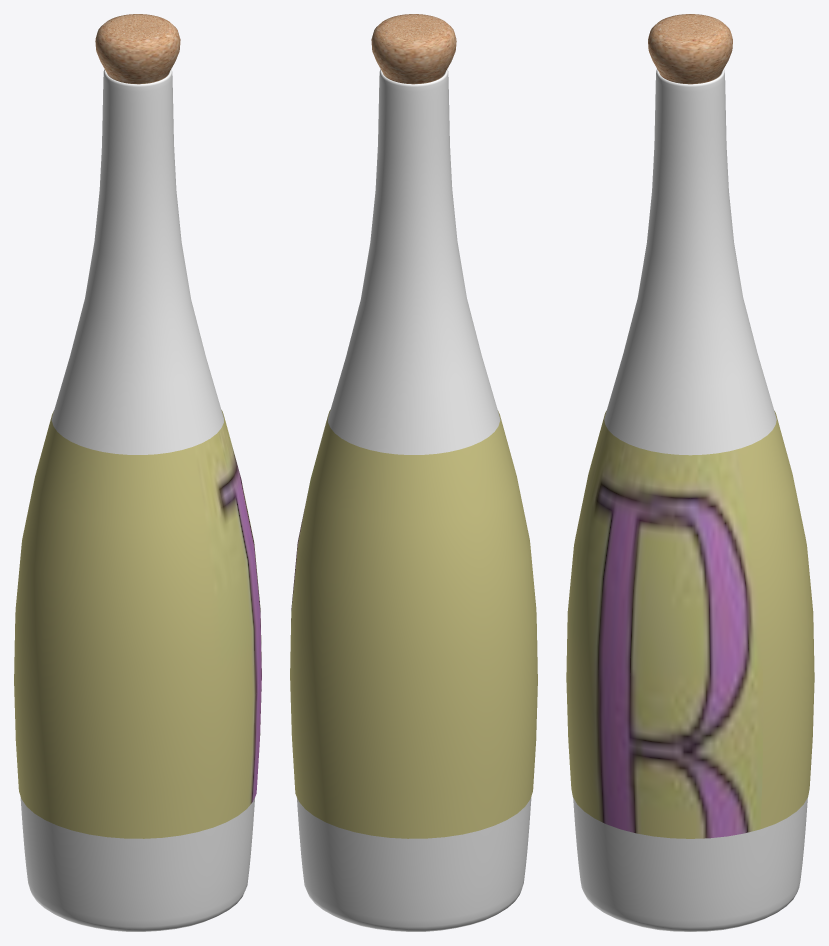
File: Rose.fbx
3 renders of one model, left to right at view 1: azimuth 30°, elevation 25°; view 2: azimuth 150°, elevation 25°; view 3: azimuth 270°, elevation 25°, orthographic.
Parts seen in each view (by area): view 1: Label, Rose, Cork; view 2: Label, Rose, Cork; view 3: Label, Rose, Cork.
Part boxes in pixels (x1,y1,x2,y2): Label: (14, 410, 261, 838); Rose: (20, 69, 255, 931); Cork: (95, 14, 180, 84); Label: (290, 410, 537, 838); Rose: (296, 69, 531, 931); Cork: (371, 14, 456, 84); Label: (566, 411, 814, 838); Rose: (573, 69, 807, 931); Cork: (648, 14, 732, 84).
Size of the model in its own units: 0.2208 by 0.8485 by 0.2207.
